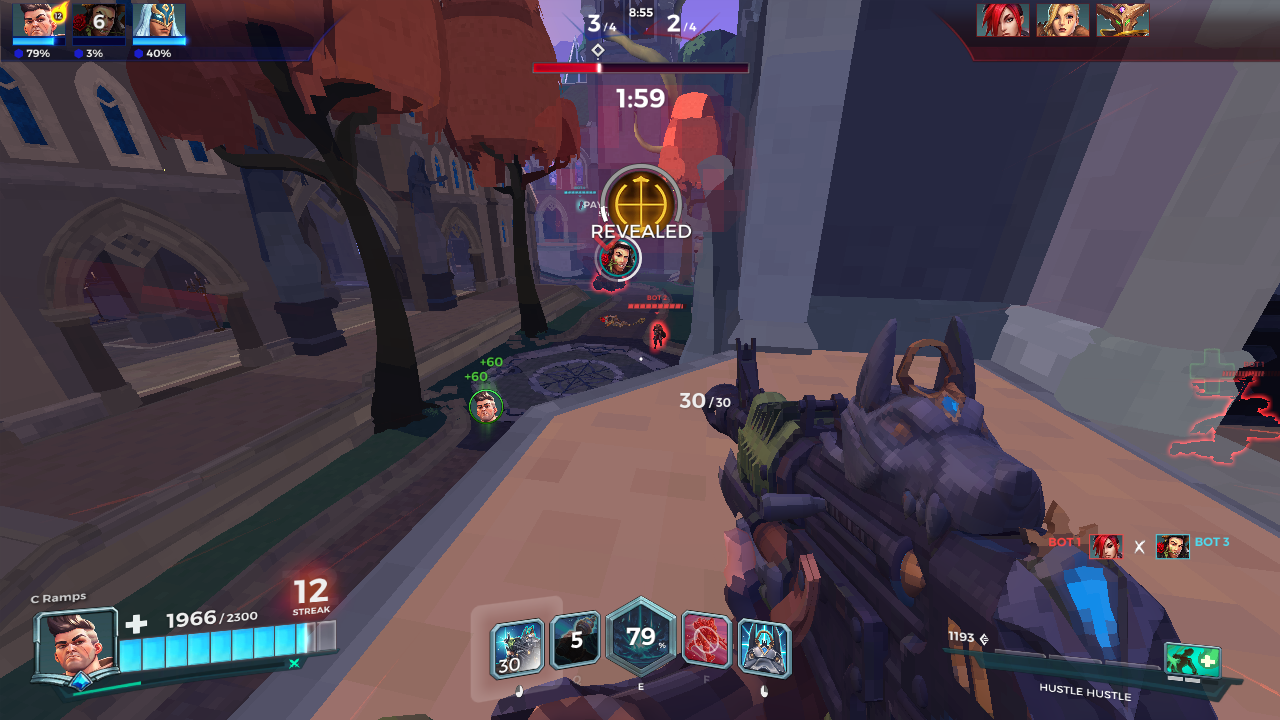model: (1196, 381, 1268, 479), (646, 319, 668, 348)
